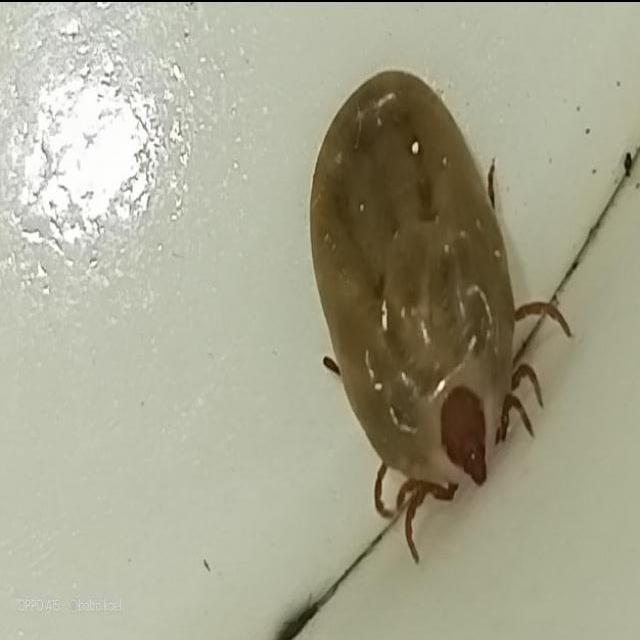Rhipicephalus Sanguineus-F-Fed: (308, 67, 572, 564)
